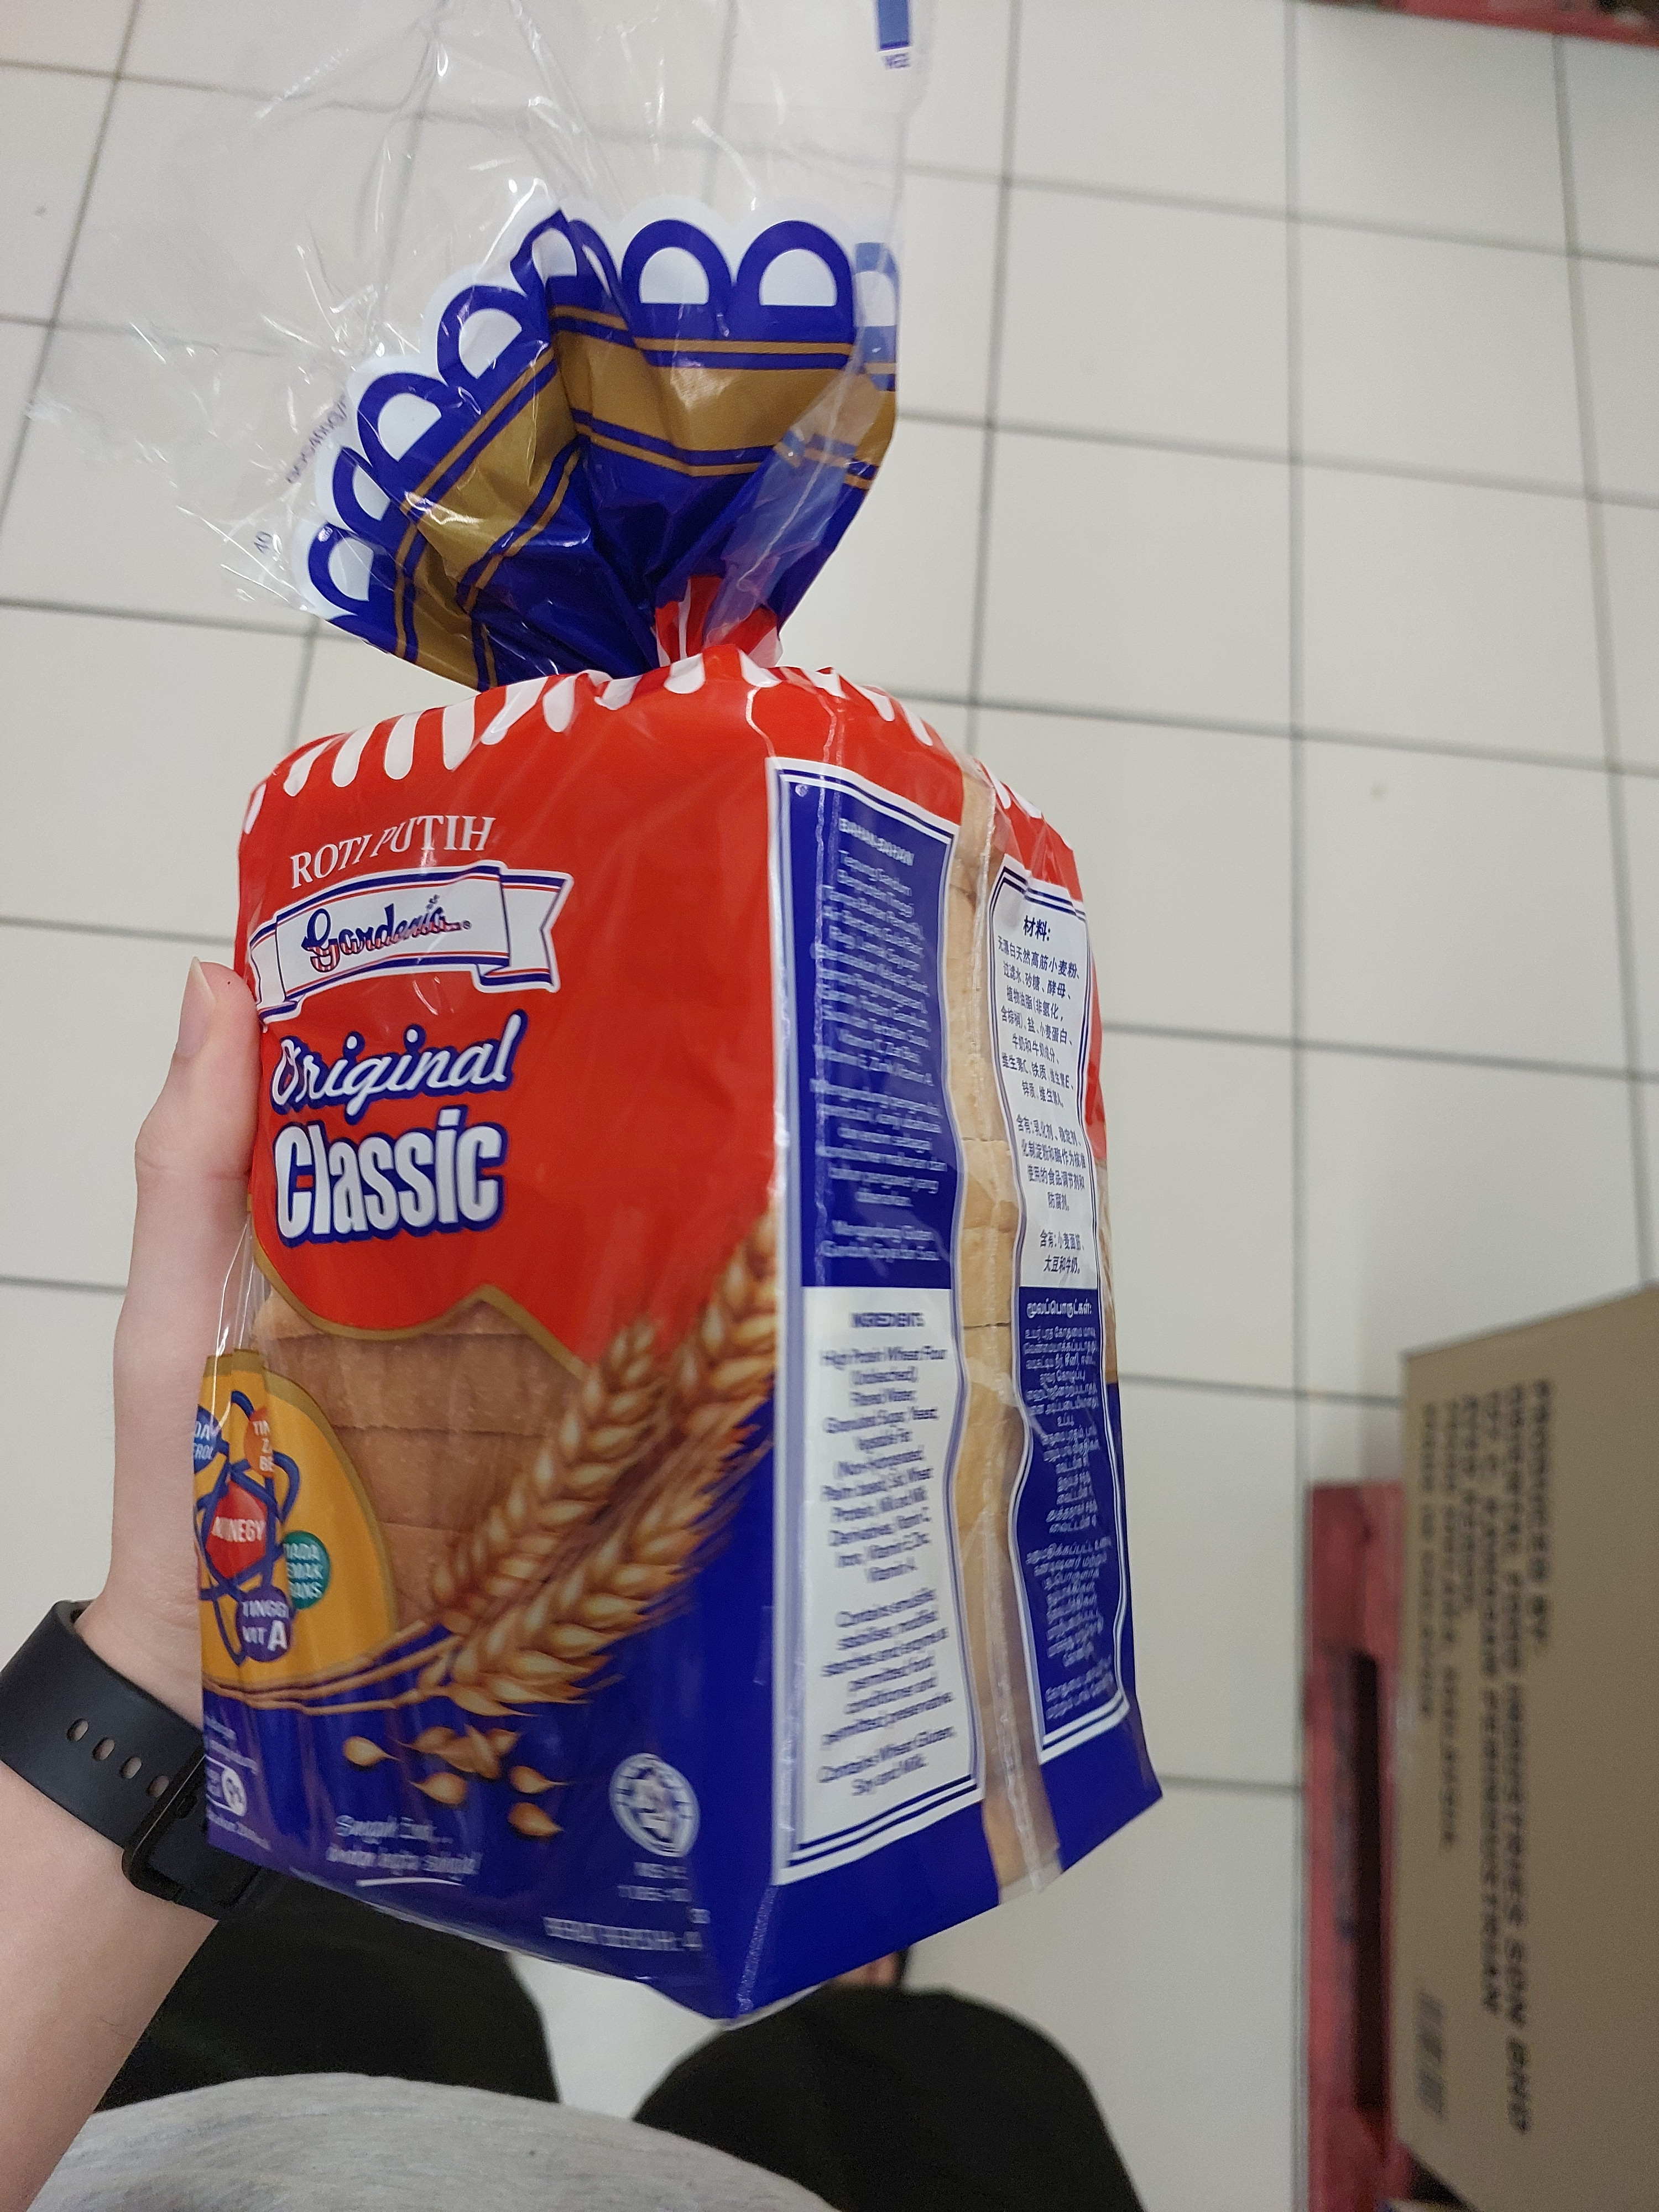bread: (190, 202, 1173, 2029)
